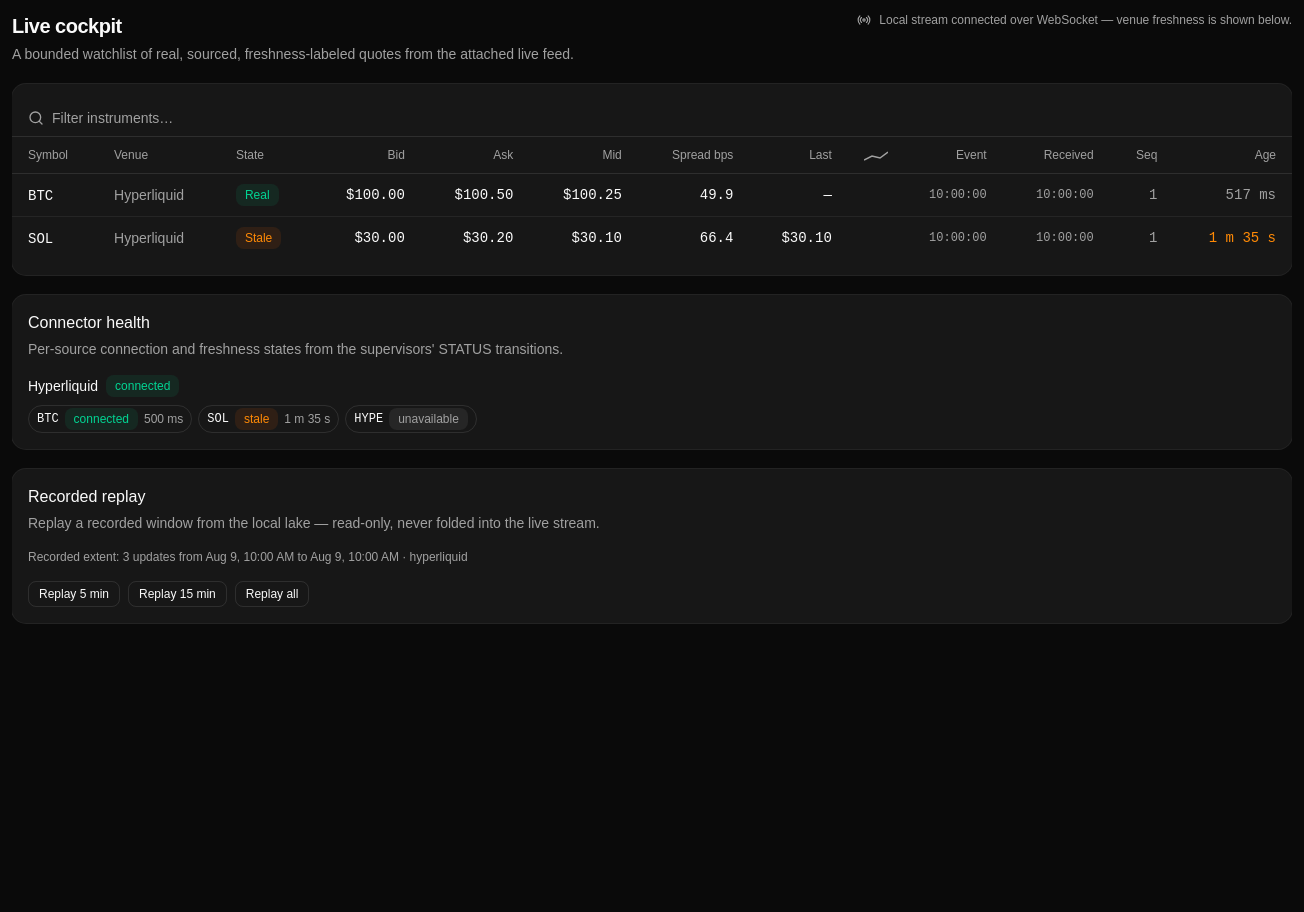
Test: CockpitScreen › replays a recorded window from the lake under a visible banner
This screenshot has width=1304, height=912.
Expected: the text "Recorded replay" is shown, [28,488,145,505]
Expected: the text "Recorded extent: 3 updates" is shown, [28,550,468,564]
Click the button "Replay all" at (272, 594), box [235,581,310,607]
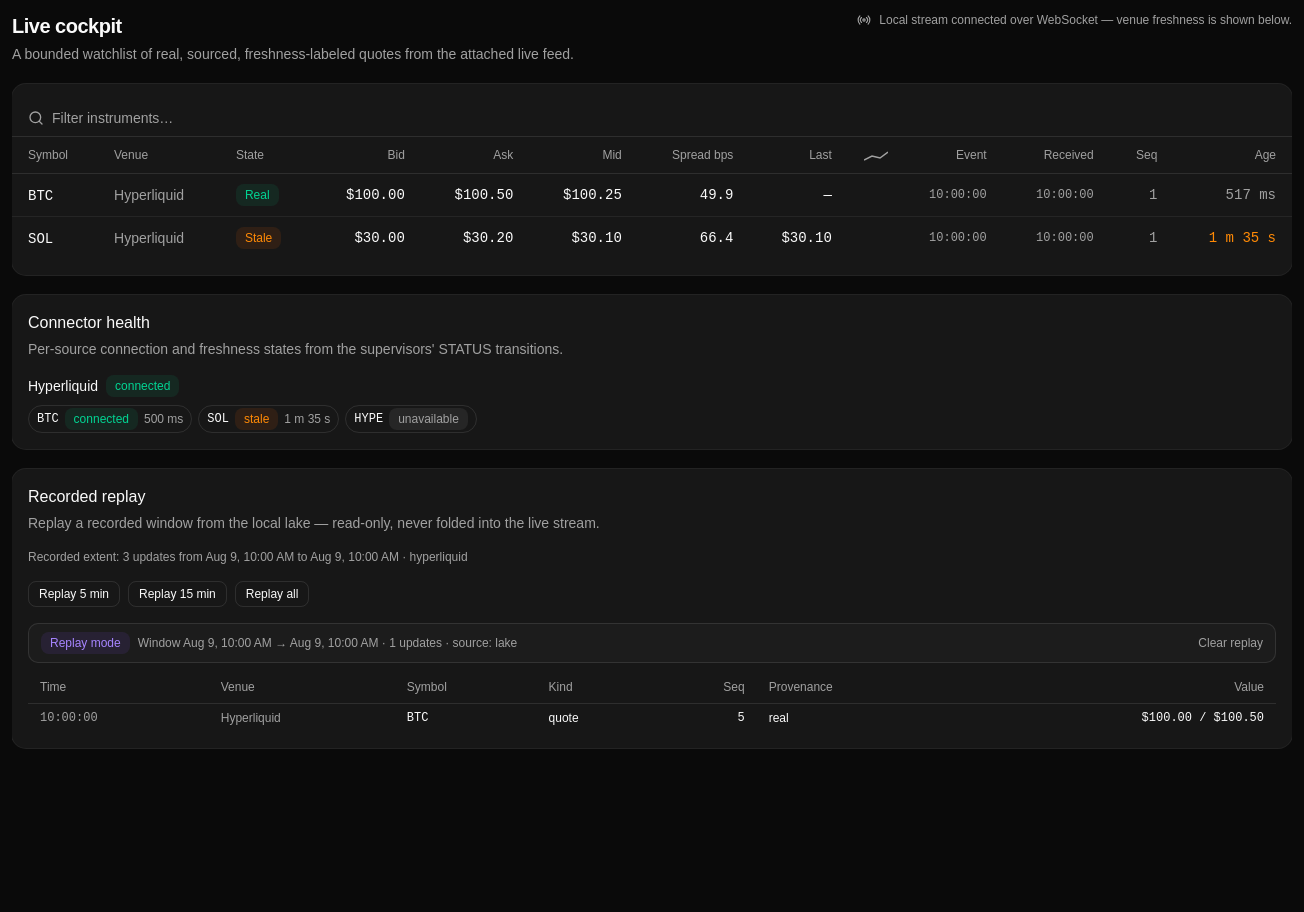
Expected: the text "Replay mode" is shown, [41,632,130,654]
Expected: the text "real" is shown, [757,704,952,732]
Expected: the text "$100.00 / $100.50" is shown, [952,704,1276,732]
Click the button "Clear replay" at (1231, 643), box [1198,635,1263,651]
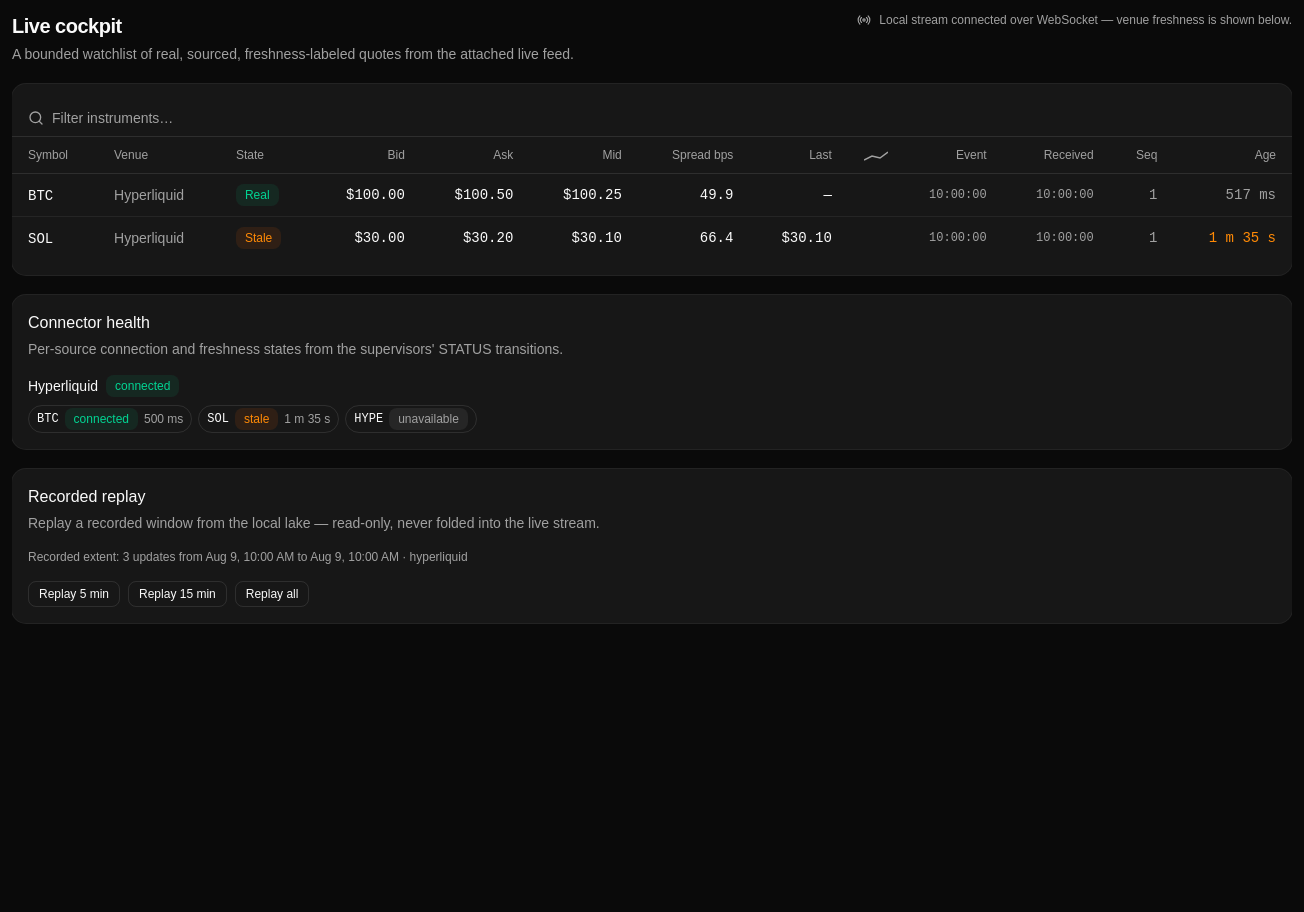
Expected: the text "Replay mode" is gone
